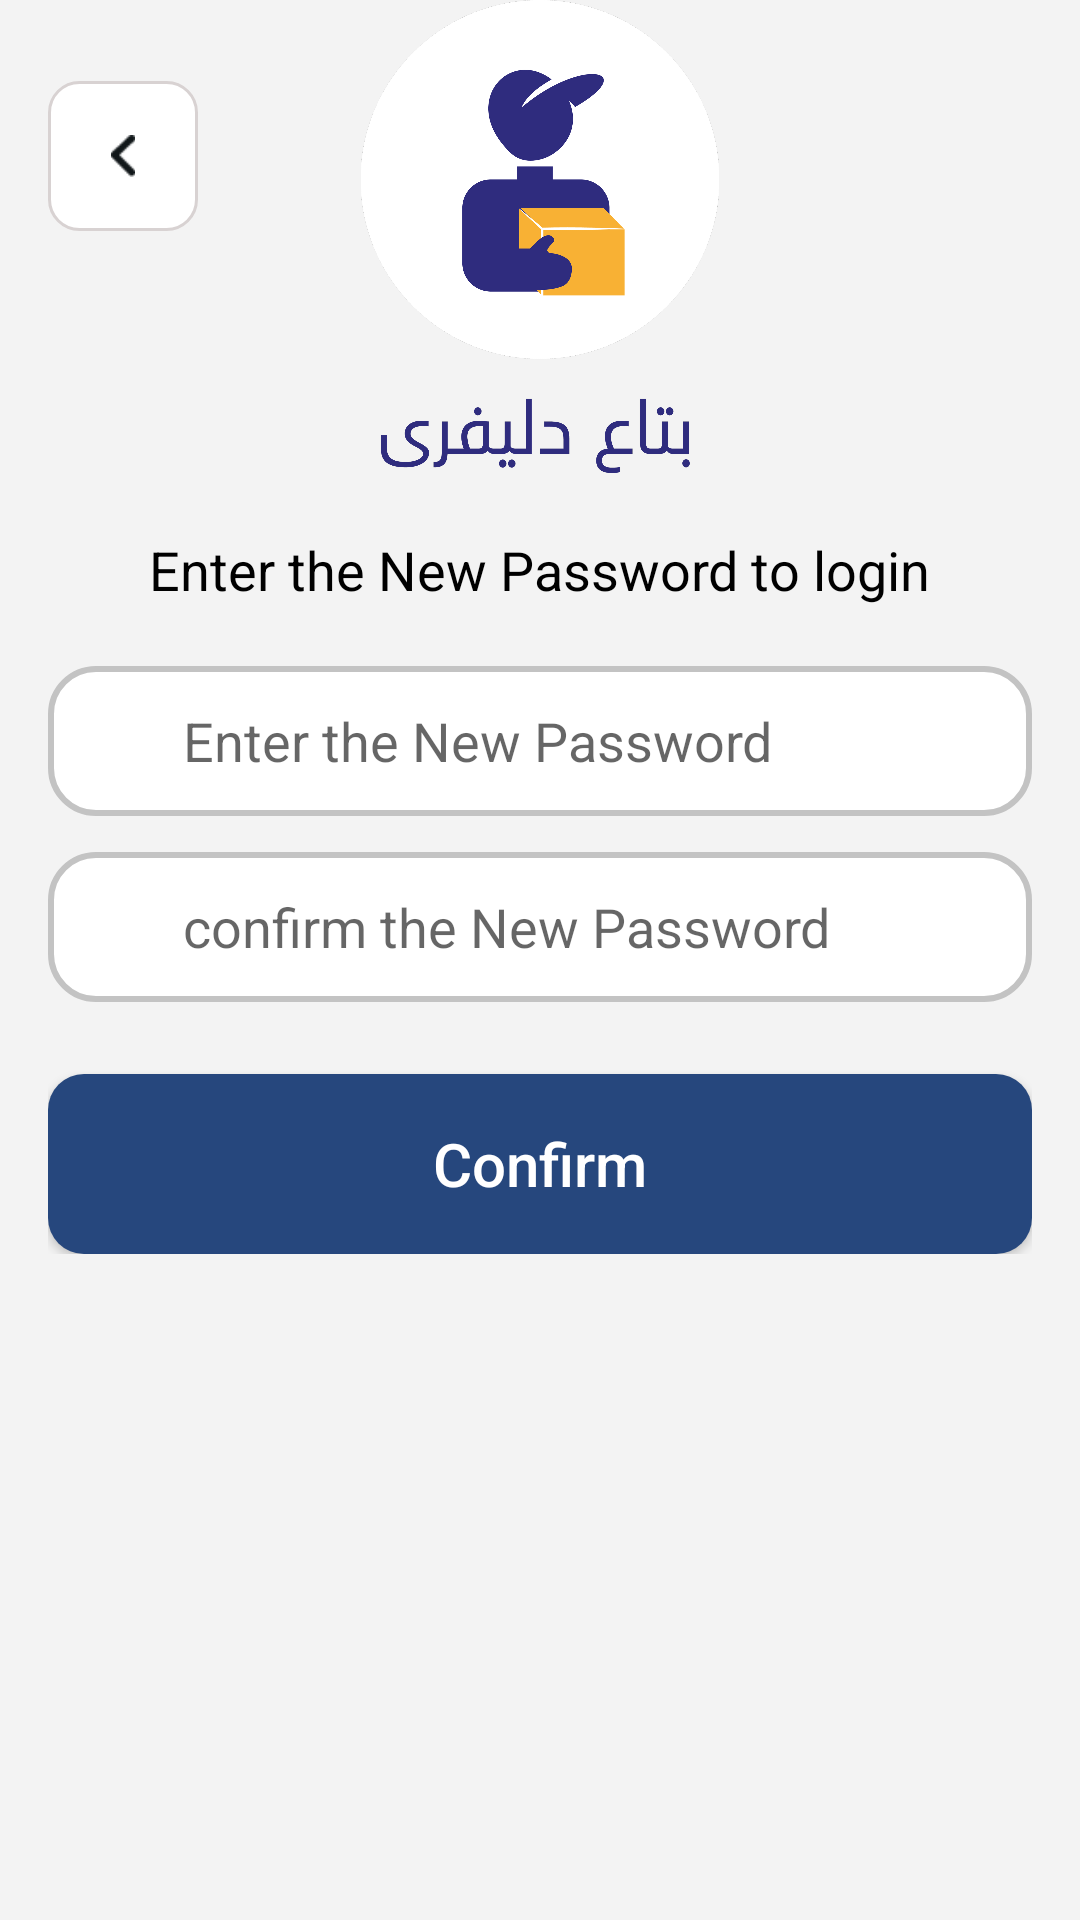

Icon click points for this 1080 × 1920 phone screenshot, format (x,y):
back: (123,156)
